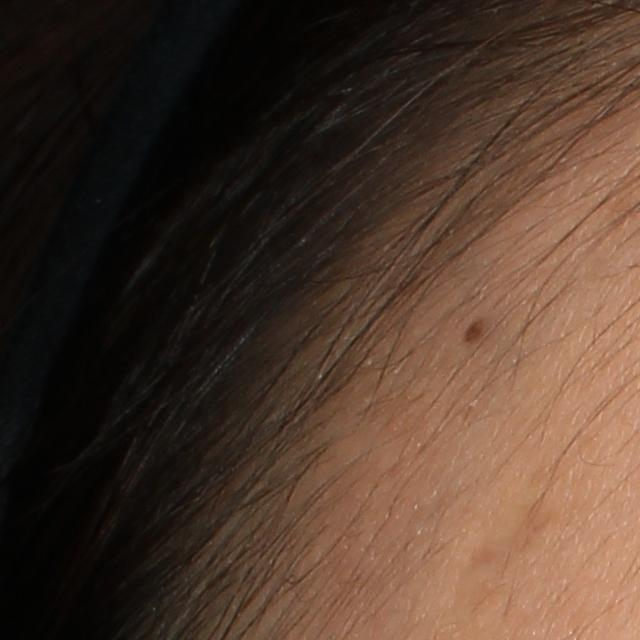nevus: (464, 316, 487, 345)
